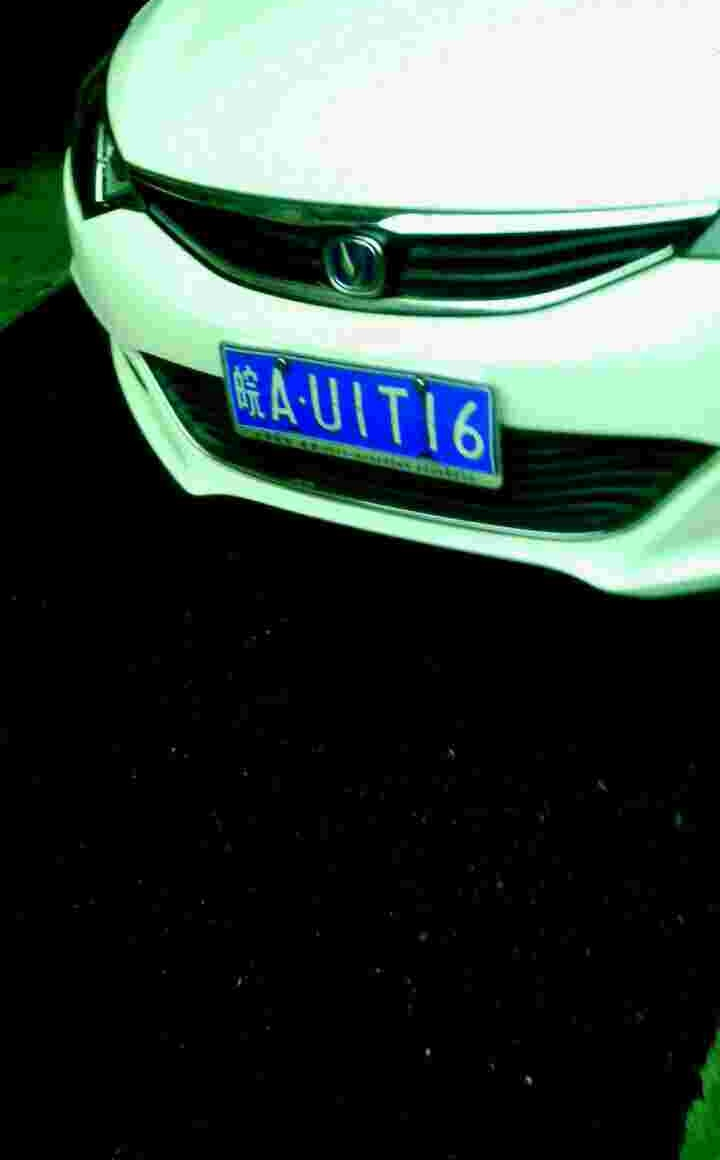license_plate: (224, 342, 505, 484)
